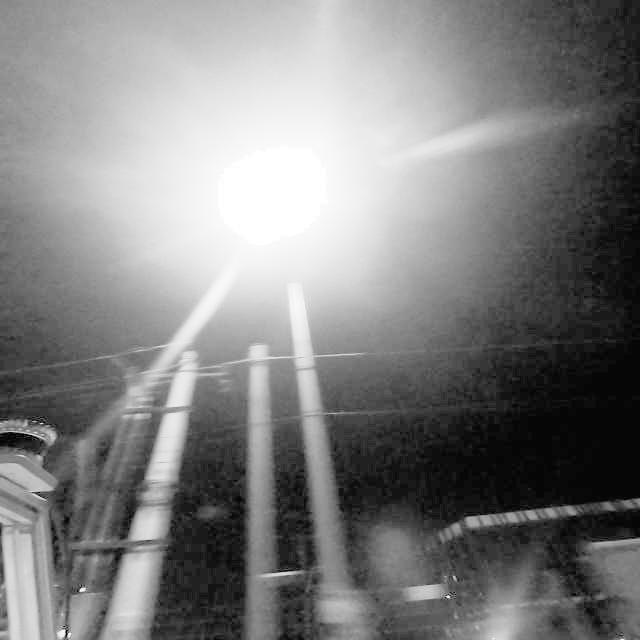Light: (199, 132, 355, 259)
